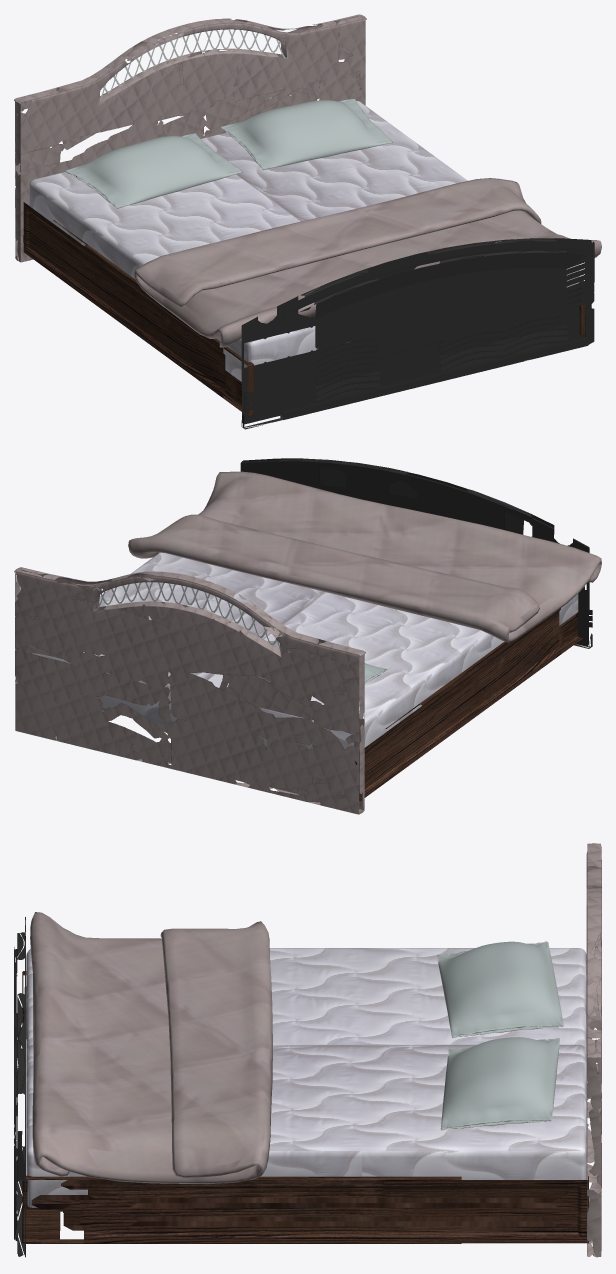
File: bed.fbx
The picture shows the model from 3 angles, top to bottom: view 1: azimuth 30°, elevation 25°; view 2: azimuth 150°, elevation 25°; view 3: azimuth 270°, elevation 25°; orthographic projection. The views are drawn at different scales.
Parts seen in each view (by area): view 1: bed.053; view 2: bed.053; view 3: bed.053.
Part boxes in pixels (x1,y1,x2,y2): bed.053: [14, 14, 601, 429]; bed.053: [14, 458, 601, 814]; bed.053: [14, 843, 601, 1257].
Size of the model in its own units: 209 by 100 by 219.
